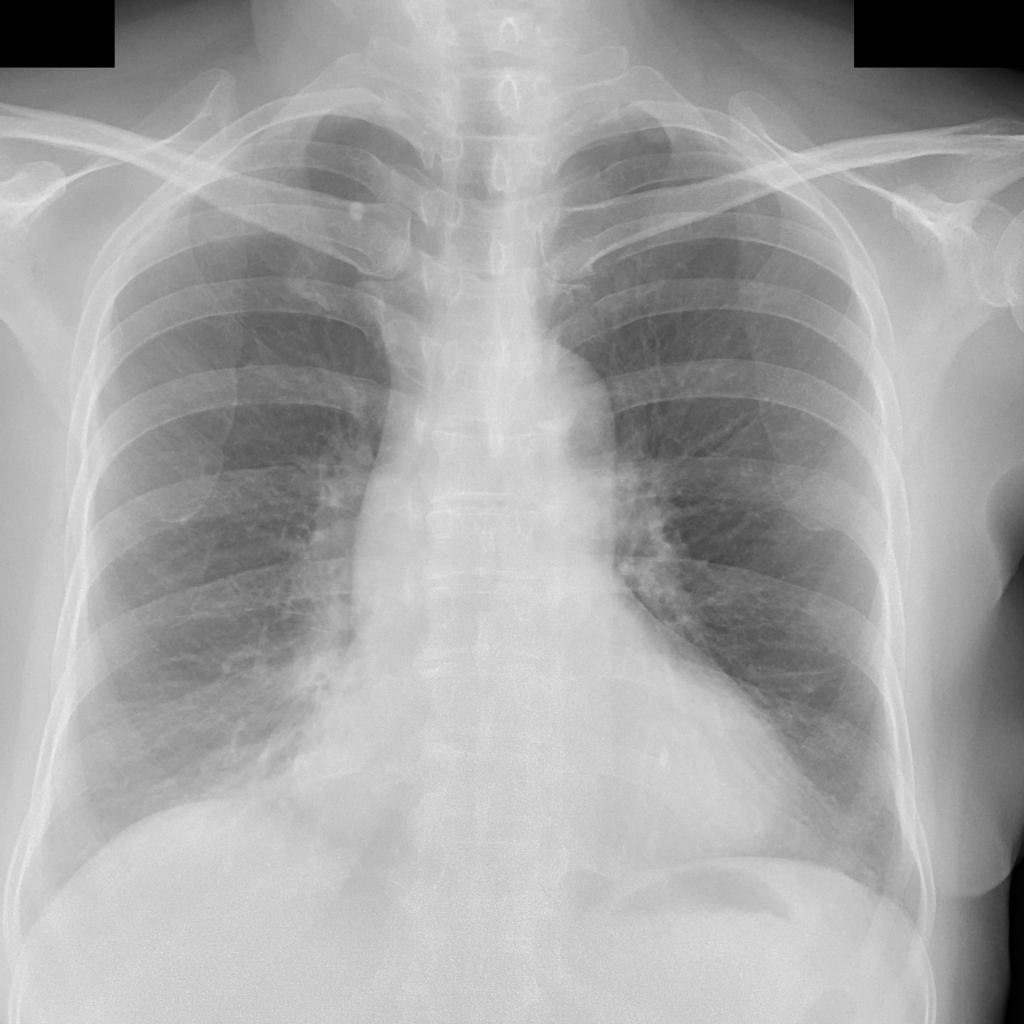Nodule: (351, 205, 364, 227)
